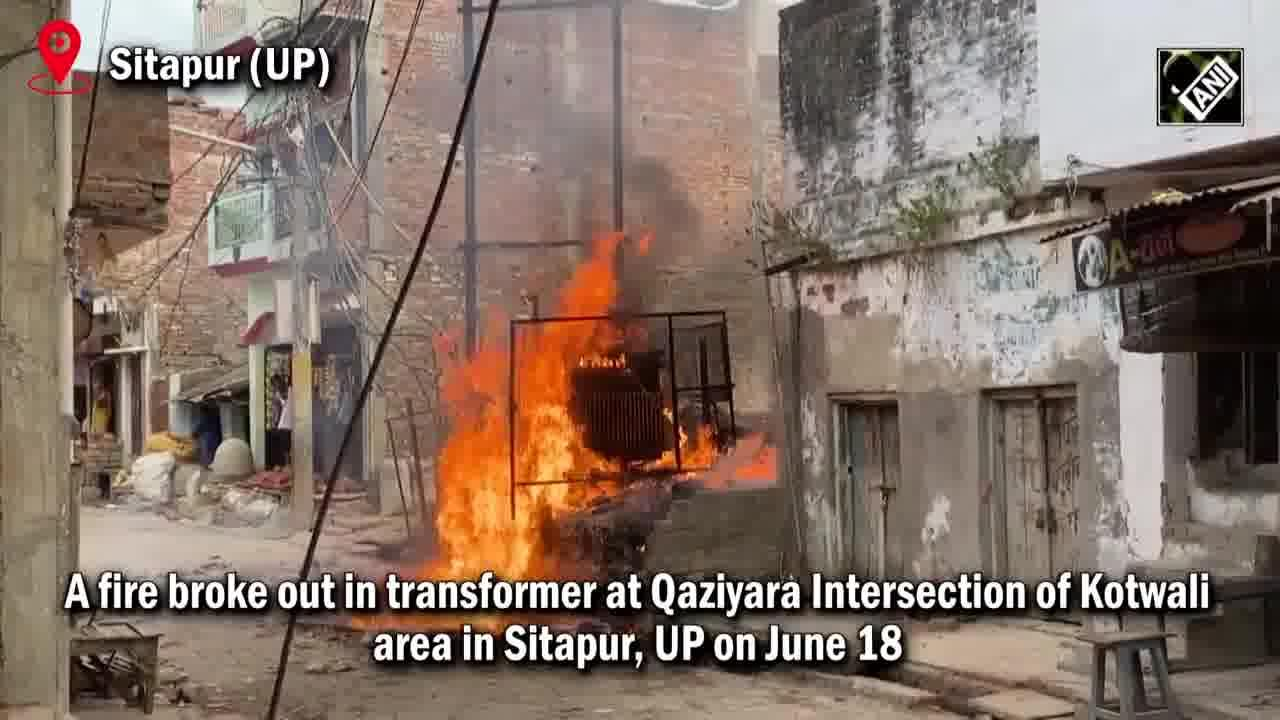fire: (405, 226, 675, 571)
